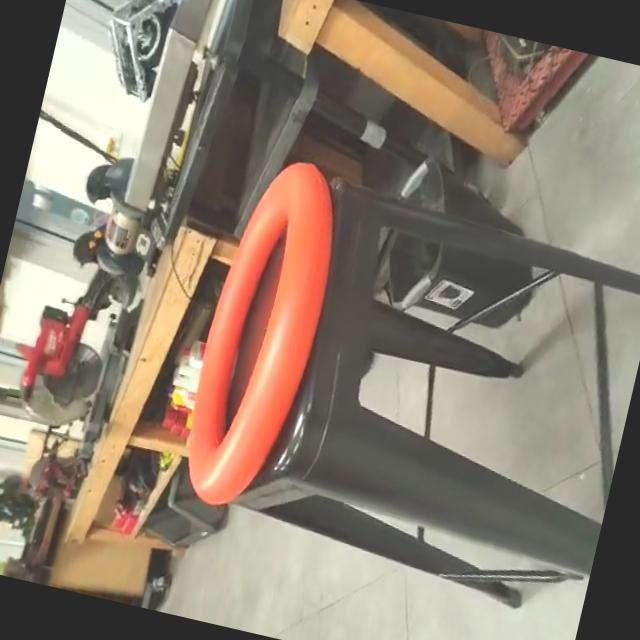note: (164, 144, 361, 526)
